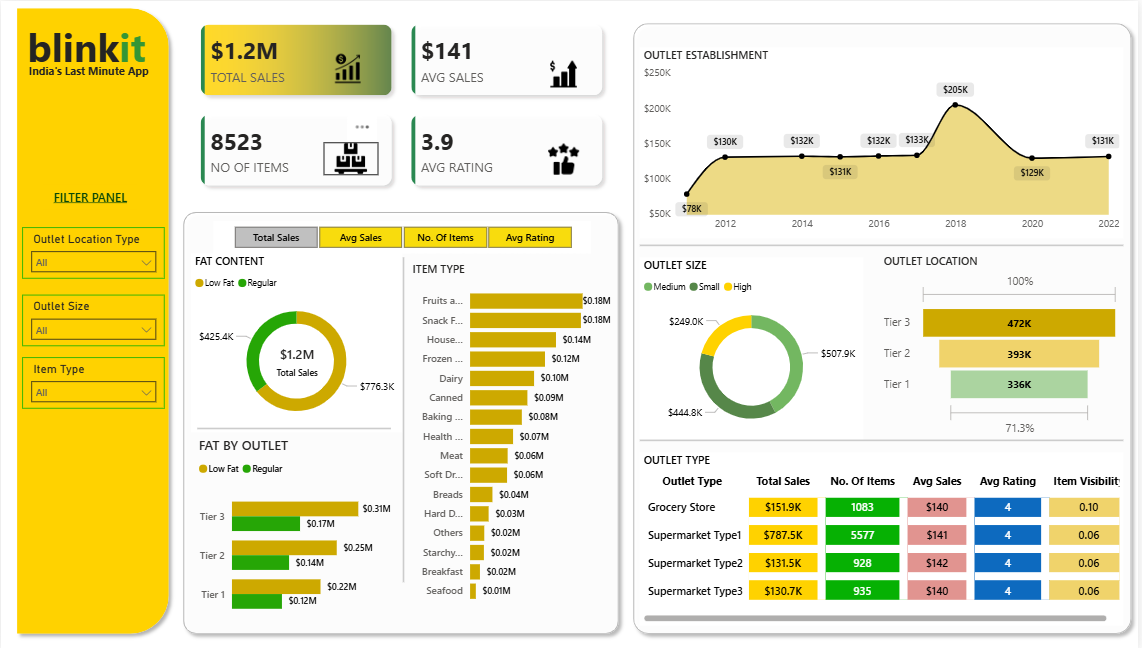

The page's visual inventory and layout, read from the dashboard file:
{"tool":"powerbi","page":{"name":"Page 1","canvas":[1400,800],"ordinal":0},"visuals":[{"type":"shape","box":[10.8,0,204.6,787.7],"z":0},{"type":"textbox","box":[27.9,19.1,164.7,82.4],"z":1000},{"type":"textbox","box":[29.4,72.1,160.3,29.4],"z":2000},{"type":"cardVisual","fields":{"Data":["BlinkIT Grocery Data.Total Sales","BlinkIT Grocery Data.Avg Sales","BlinkIT Grocery Data.No. Of Items","BlinkIT Grocery Data.Avg Rating"]},"box":[216.9,0,552.3,256.9],"z":3000},{"type":"image","box":[389.2,64.6,75.4,36.9],"z":4000},{"type":"image","box":[669.2,72.3,46.2,35.4],"z":5000},{"type":"image","box":[396.9,173.8,67.7,40],"z":6000},{"type":"image","box":[669.2,175.4,46.2,38.5],"z":7000},{"type":"shape","box":[215.4,250.8,553.8,536.9],"z":8000},{"type":"donutChart","title":"FAT CONTENT","fields":{"Y":["BlinkIT Grocery Data.Total Sales"],"Category":["BlinkIT Grocery Data.Item Fat Content"]},"box":[233.8,310.8,260,220],"z":9000},{"type":"slicer","fields":{"Values":["Metrics.Metrics"]},"box":[261.5,270.8,464.6,40],"z":10000},{"type":"card","fields":{"Values":["BlinkIT Grocery Data.Total Sales"]},"box":[332.3,420,64.6,50.8],"z":11000},{"type":"clusteredBarChart","title":"FAT BY OUTLET","fields":{"Y":["BlinkIT Grocery Data.Total Sales"],"Category":["BlinkIT Grocery Data.Outlet Location Type"],"Series":["BlinkIT Grocery Data.Item Fat Content"]},"box":[238.5,535.4,246.2,238.5],"z":12000},{"type":"shape","box":[241.5,521.5,238.5,9.2],"z":13000},{"type":"shape","box":[489.2,315.4,12.3,400],"z":14000},{"type":"barChart","title":"ITEM TYPE","fields":{"Y":["BlinkIT Grocery Data.Total Sales"],"Category":["BlinkIT Grocery Data.Item Type"]},"box":[501.5,320,253.8,430.8],"z":15000},{"type":"shape","box":[769.2,18.5,630.8,769.2],"z":16000},{"type":"lineChart","title":"OUTLET ESTABLISHMENT","fields":{"Category":["BlinkIT Grocery Data.Outlet Establishment Year"],"Y":["BlinkIT Grocery Data.Total Sales"]},"box":[786.2,56.9,595.4,235.4],"z":17000},{"type":"shape","box":[786.2,290.8,595.4,20],"z":18000},{"type":"donutChart","title":"OUTLET SIZE","fields":{"Y":["BlinkIT Grocery Data.Total Sales"],"Category":["BlinkIT Grocery Data.Outlet Size"]},"box":[786.2,315.4,275,225],"z":19000},{"type":"funnel","title":"OUTLET LOCATION","fields":{"Category":["BlinkIT Grocery Data.Outlet Location Type"],"Y":["Sum(BlinkIT Grocery Data.Sales)"]},"box":[1081.5,310.8,300,229.2],"z":20000},{"type":"shape","box":[786.2,530.8,595.4,20],"z":21000},{"type":"pivotTable","title":"OUTLET TYPE","fields":{"Rows":["BlinkIT Grocery Data.Outlet Type"],"Values":["BlinkIT Grocery Data.Total Sales","BlinkIT Grocery Data.No. Of Items","BlinkIT Grocery Data.Avg Sales","BlinkIT Grocery Data.Avg Rating","Avg(BlinkIT Grocery Data.Item Visibility)"]},"box":[786.2,555.4,595.4,213.8],"z":22000},{"type":"slicer","fields":{"Values":["BlinkIT Grocery Data.Outlet Location Type"]},"box":[26.2,278.5,175.4,63.1],"z":23000},{"type":"slicer","fields":{"Values":["BlinkIT Grocery Data.Outlet Size"]},"box":[26.2,361.5,175.4,63.1],"z":24000},{"type":"slicer","fields":{"Values":["BlinkIT Grocery Data.Item Type"]},"box":[26.2,438.5,175.4,63.1],"z":25000},{"type":"textbox","box":[52.3,226.2,115.4,30.8],"z":25001}]}

Visuals, with their boxes in screenshot pixels (x1, y1, x2, y2), scaled from the page's 1400x800 canvas onto the 1142x648 screenshot:
shape: 9/0/176/638
textbox: 23/15/157/82
textbox: 24/58/155/82
cardVisual - BlinkIT Grocery Data.Total Sales x BlinkIT Grocery Data.Avg Sales: 177/0/627/208
image: 317/52/379/82
image: 546/59/584/87
image: 324/141/379/173
image: 546/142/584/173
shape: 176/203/627/638
"FAT CONTENT" donutChart: 191/252/403/430
slicer - Metrics.Metrics: 213/219/592/252
card - BlinkIT Grocery Data.Total Sales: 271/340/324/381
"FAT BY OUTLET" clusteredBarChart: 195/434/395/627
shape: 197/422/392/430
shape: 399/255/409/579
"ITEM TYPE" barChart: 409/259/616/608
shape: 627/15/1141/638
"OUTLET ESTABLISHMENT" lineChart: 641/46/1127/237
shape: 641/236/1127/252
"OUTLET SIZE" donutChart: 641/255/866/438
"OUTLET LOCATION" funnel: 882/252/1127/437
shape: 641/430/1127/446
"OUTLET TYPE" pivotTable: 641/450/1127/623
slicer - BlinkIT Grocery Data.Outlet Location Type: 21/226/164/277
slicer - BlinkIT Grocery Data.Outlet Size: 21/293/164/344
slicer - BlinkIT Grocery Data.Item Type: 21/355/164/406
textbox: 43/183/137/208
